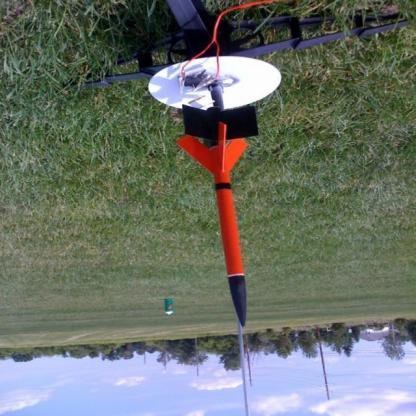MIL_TBM: (212, 171, 254, 327)
